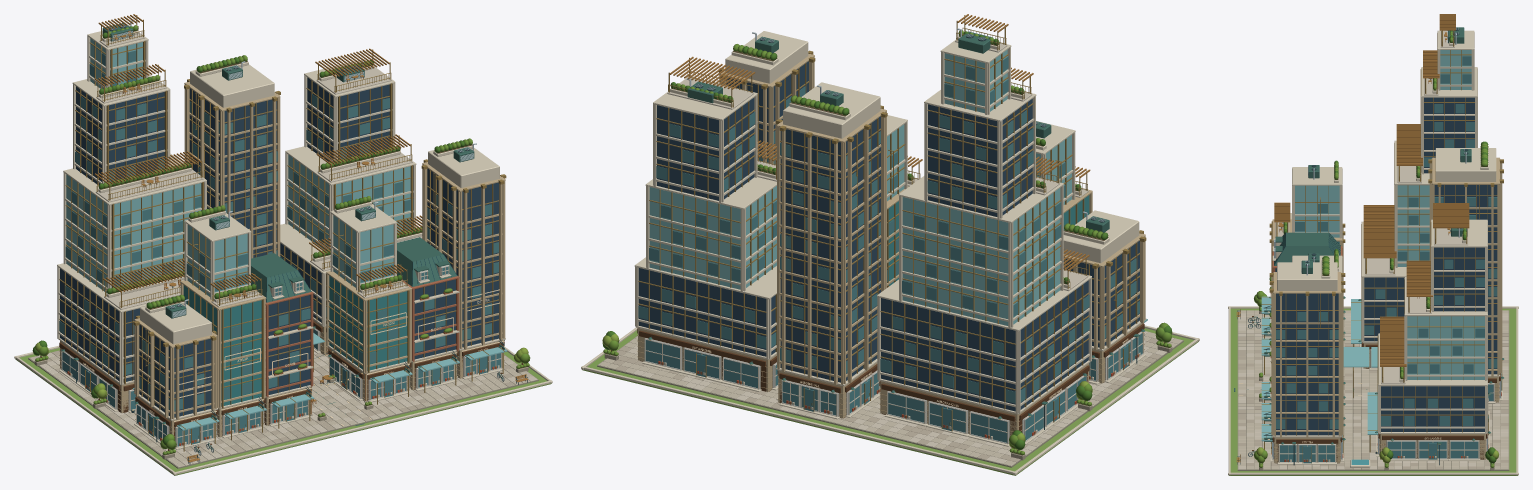
Rendered from level-8.glb.
3 views of the same model, side by side, from view 1: azimuth 30°, elevation 25°; view 2: azimuth 150°, elevation 25°; view 3: azimuth 270°, elevation 25° (orthographic). The views are drawn at different scales.
Visible parts, largest first — view 1: landmark_additions_geometry, metropolitan_sign_lighting_finance_sign; view 2: landmark_additions_geometry; view 3: landmark_additions_geometry.
Boxes of the visible parts, left/top/right/bottom form: landmark_additions_geometry: left=14, top=14, right=552, bottom=475; metropolitan_sign_lighting_finance_sign: left=173, top=289, right=504, bottom=426; landmark_additions_geometry: left=581, top=14, right=1199, bottom=475; landmark_additions_geometry: left=1228, top=14, right=1518, bottom=475.
Size of the model in its own units: 60 by 52.96 by 44.
